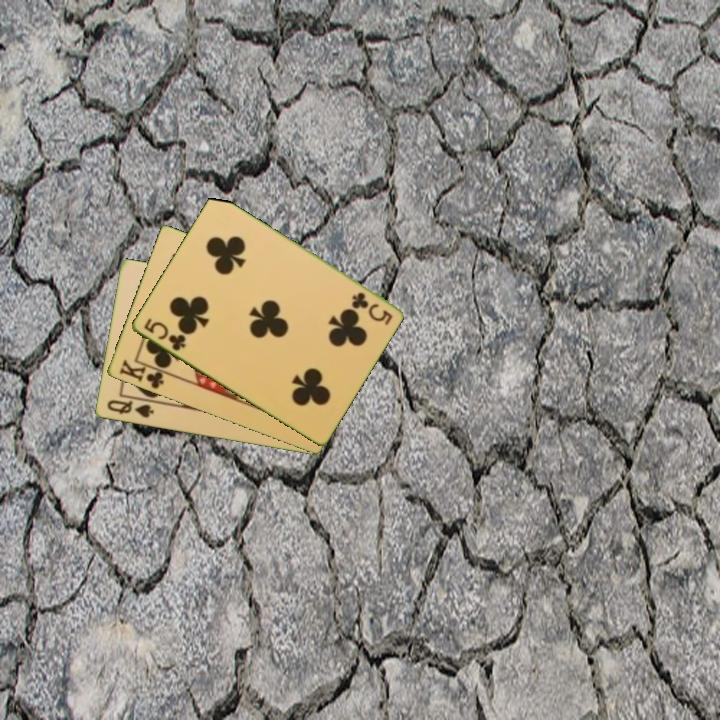5c: (140, 314, 188, 354), (348, 288, 395, 328)
Kc: (115, 356, 171, 392)
Qs: (103, 396, 156, 421)
